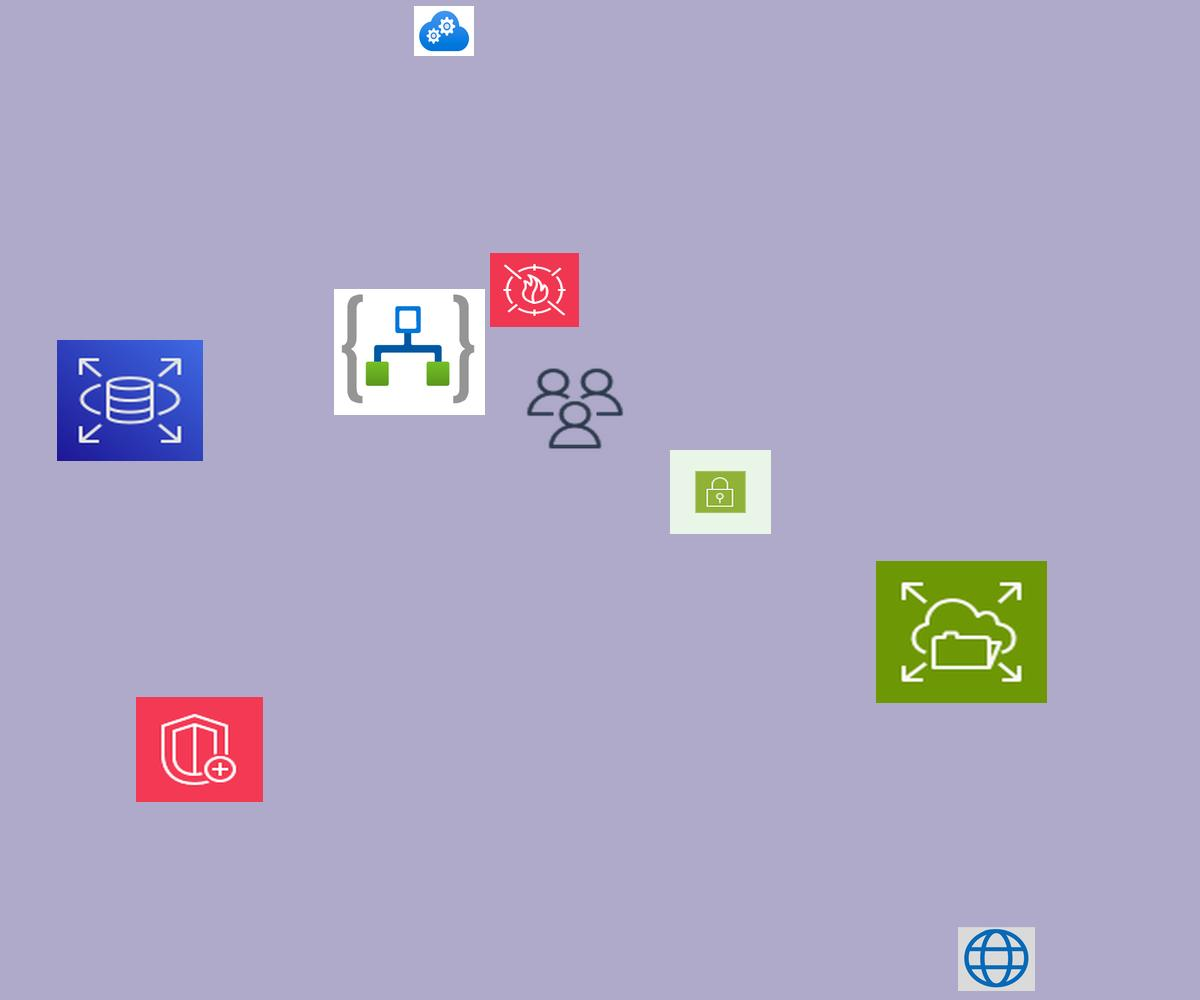AWS-EFS: (876, 561, 1047, 703)
AWS-Public-subnet: (670, 450, 771, 534)
AWS-RDS: (57, 340, 203, 461)
AWS-Res_Users: (523, 365, 627, 452)
AWS-Shield: (136, 697, 263, 802)
AWS-WAF: (490, 253, 579, 327)
Azure_cloud_services: (414, 6, 474, 56)
Azure_http: (958, 927, 1035, 991)
Azure_integration-204-Logic-Apps: (334, 289, 485, 415)
